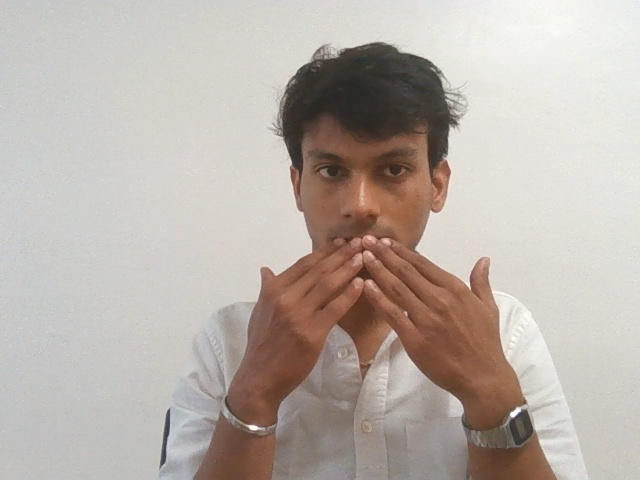ThankYou: (244, 234, 532, 429)
